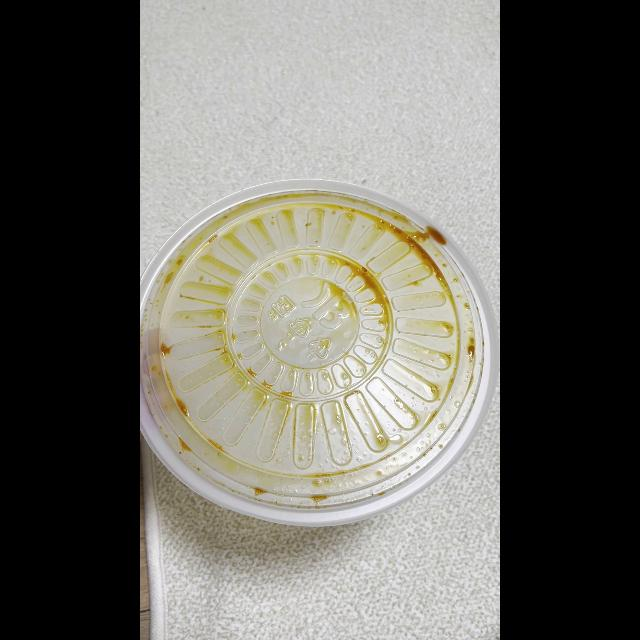dirty: (140, 187, 500, 523)
